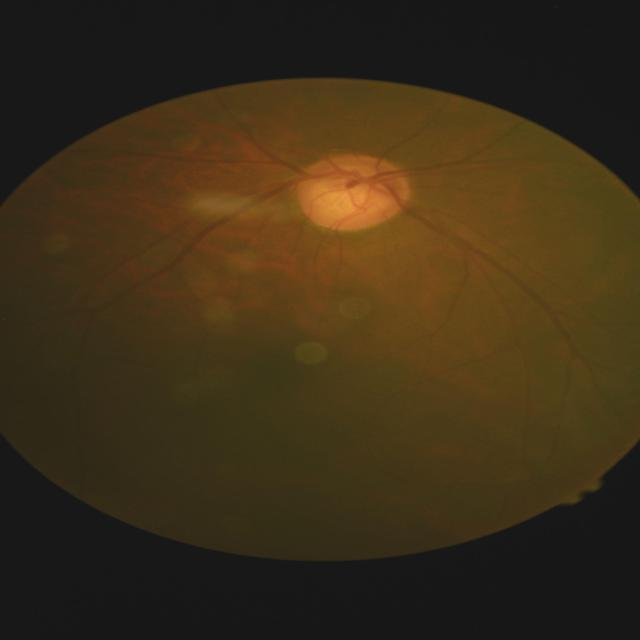cup: (316, 164, 394, 208)
disk: (292, 152, 412, 230)
